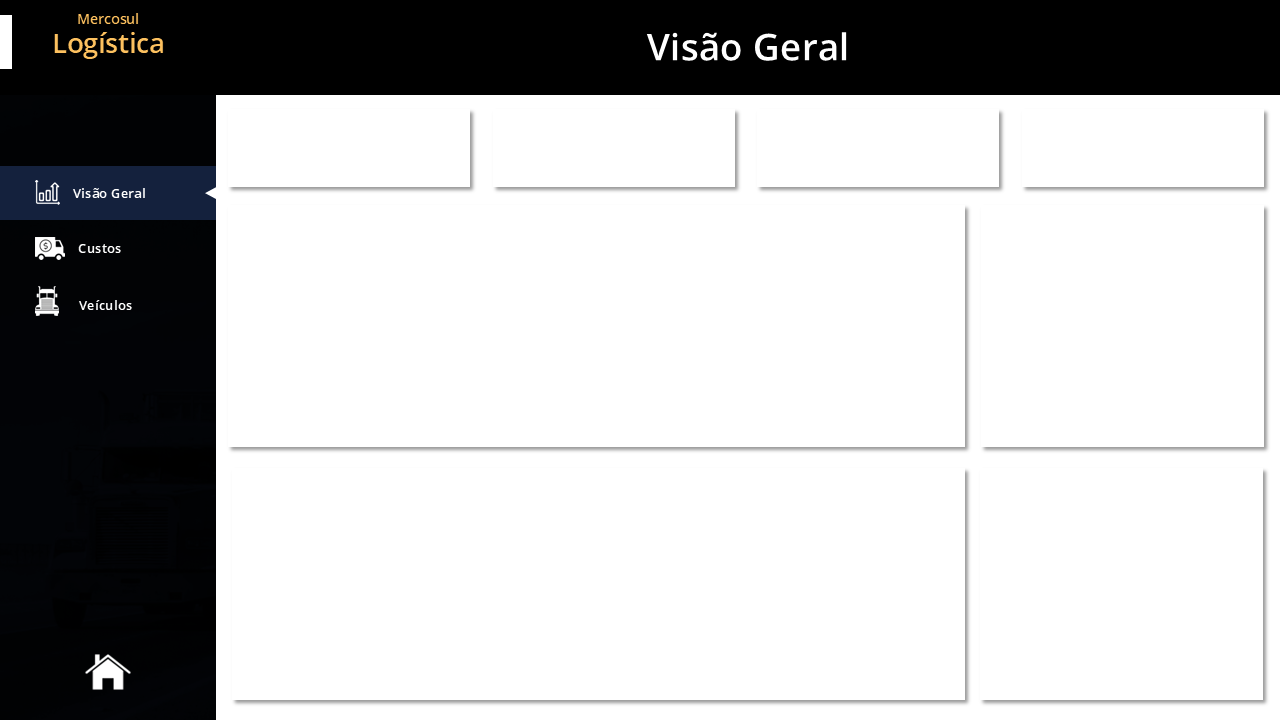

This screenshot's page, from the dashboard's own definition file:
{"tool":"powerbi","page":{"name":"Geral","canvas":[1280,720],"ordinal":1},"visuals":[{"type":"multiRowCard","fields":{"Values":["_Medidas.Valor Total Frete"]},"box":[229.6,110,239.2,77],"z":0},{"type":"multiRowCard","fields":{"Values":["_Medidas.Quantidade de Viagens"]},"box":[497.7,110,236.5,70.1],"z":1000},{"type":"multiRowCard","fields":{"Values":["_Medidas.Peso Total (ton)"]},"box":[764.4,112.7,214.5,70.1],"z":2000},{"type":"multiRowCard","fields":{"Values":["_Medidas.Valor Total da Mercadoria"]},"box":[1024.3,112.7,240.6,72.9],"z":3000},{"type":"clusteredColumnChart","title":"Quantidade de Viagens Mês Atual vs. Mês Anterior","fields":{"Category":["Calendario.Data.Variation.Hierarquia de datas.Ano","Calendario.Data.Variation.Hierarquia de datas.Mês","Calendario.Data.Variation.Hierarquia de datas.Dia"],"Y":["_Medidas.Quantidade de Viagens","_Medidas.Viagens Mês Anterior"]},"box":[224.7,471.1,745.4,238],"z":4000},{"type":"slicer","fields":{"Values":["Calendario.Ano"]},"box":[1106.8,15.1,158.1,71.5],"z":5000},{"type":"clusteredColumnChart","title":"Valor Frete Atual vs. Mês Anterior","fields":{"Category":["Calendario.Data.Variation.Hierarquia de datas.Ano","Calendario.Data.Variation.Hierarquia de datas.Mês","Calendario.Data.Variation.Hierarquia de datas.Dia"],"Y":["_Medidas.Valor Total Frete","_Medidas.Frete Mês Anterior"]},"box":[224.7,206.6,745.4,251.3],"z":6000},{"type":"map","title":"Valor Total da Mercadoria Entregue","fields":{"Category":["dCliente.UF","dCliente.Cidade"],"Size":["_Medidas.Valor Total da Mercadoria"]},"box":[982.4,206.7,281.5,236.1],"z":7000},{"type":"clusteredBarChart","fields":{"Category":["dVeiculo.Marca"],"Y":["_Medidas.Peso Total (ton)"]},"box":[979.4,475.1,285.9,221.4],"z":8000},{"type":"actionButton","box":[82.1,646.3,50.7,50.7],"z":9000},{"type":"actionButton","box":[0,276.6,217.4,55.6],"z":10000},{"type":"actionButton","box":[0,221.1,217.4,55.6],"z":11000}]}

Visuals, with their boxes on the page's 1280x720 design canvas (x1, y1, x2, y2). These are canvas units, not pixel positions in the 1280x720 screenshot, which may show the page scaled, cropped or inside an application window:
multiRowCard - _Medidas.Valor Total Frete: <bbox>230, 110, 469, 187</bbox>
multiRowCard - _Medidas.Quantidade de Viagens: <bbox>498, 110, 734, 180</bbox>
multiRowCard - _Medidas.Peso Total (ton): <bbox>764, 113, 979, 183</bbox>
multiRowCard - _Medidas.Valor Total da Mercadoria: <bbox>1024, 113, 1265, 186</bbox>
"Quantidade de Viagens Mês Atual vs. Mês Anterior" clusteredColumnChart: <bbox>225, 471, 970, 709</bbox>
slicer - Calendario.Ano: <bbox>1107, 15, 1265, 87</bbox>
"Valor Frete Atual vs. Mês Anterior" clusteredColumnChart: <bbox>225, 207, 970, 458</bbox>
"Valor Total da Mercadoria Entregue" map: <bbox>982, 207, 1264, 443</bbox>
clusteredBarChart - dVeiculo.Marca x _Medidas.Peso Total (ton): <bbox>979, 475, 1265, 696</bbox>
actionButton: <bbox>82, 646, 133, 697</bbox>
actionButton: <bbox>0, 277, 217, 332</bbox>
actionButton: <bbox>0, 221, 217, 277</bbox>
